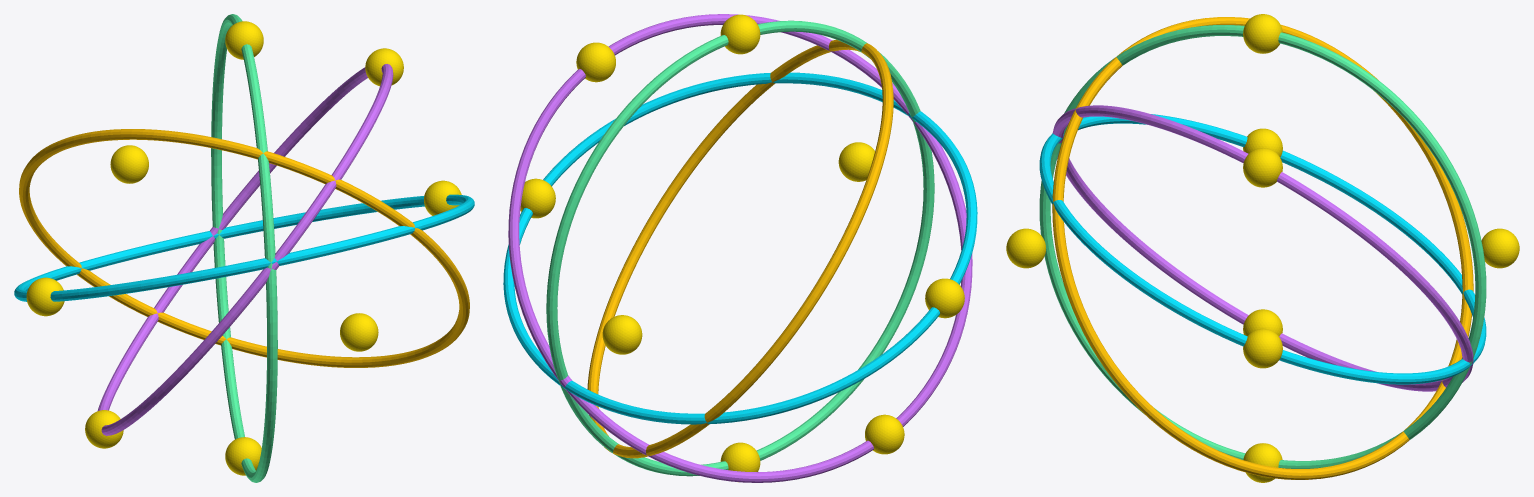
The model's file is modelo.glb.
3 views of the same model, side by side, from view 1: azimuth 30°, elevation 25°; view 2: azimuth 150°, elevation 25°; view 3: azimuth 270°, elevation 25° (orthographic). The views are drawn at different scales.
Parts seen in each view (by area): view 1: orbita_4, orbita_3, orbita_2, orbita_1, eletron_5, eletron_6, eletron_2, eletron_3, eletron_8, eletron_7, eletron_4, eletron_1; view 2: orbita_3, orbita_1, orbita_2, orbita_4, eletron_6, eletron_7, eletron_8, eletron_3, eletron_2, eletron_5, eletron_1, eletron_4; view 3: orbita_4, orbita_2, orbita_1, orbita_3, eletron_5, eletron_1, eletron_7, eletron_3, eletron_6, eletron_4, eletron_8, eletron_2.
Boxes of the visible parts, <box> form: orbita_4: <box>19,129,469,367</box>; orbita_3: <box>97,64,393,435</box>; orbita_2: <box>211,14,277,482</box>; orbita_1: <box>14,194,474,301</box>; eletron_5: <box>340,313,378,351</box>; eletron_6: <box>110,145,148,183</box>; eletron_2: <box>26,277,64,316</box>; eletron_3: <box>225,21,263,59</box>; eletron_8: <box>85,410,123,448</box>; eletron_7: <box>365,48,403,86</box>; eletron_4: <box>225,437,261,475</box>; eletron_1: <box>424,180,461,215</box>; orbita_3: <box>508,14,972,482</box>; orbita_1: <box>503,72,977,424</box>; orbita_2: <box>546,20,934,476</box>; orbita_4: <box>587,39,893,458</box>; eletron_6: <box>602,315,642,354</box>; eletron_7: <box>576,42,615,82</box>; eletron_8: <box>865,414,904,454</box>; eletron_3: <box>720,14,760,54</box>; eletron_2: <box>925,278,964,318</box>; eletron_5: <box>838,142,874,181</box>; eletron_1: <box>520,178,555,218</box>; eletron_4: <box>720,442,760,482</box>; orbita_4: <box>1052,17,1473,479</box>; orbita_2: <box>1039,25,1486,468</box>; orbita_1: <box>1039,114,1486,384</box>; orbita_3: <box>1052,105,1473,391</box>; eletron_5: <box>1006,228,1045,268</box>; eletron_1: <box>1243,328,1282,368</box>; eletron_7: <box>1243,148,1282,187</box>; eletron_3: <box>1243,14,1282,53</box>; eletron_6: <box>1481,228,1519,268</box>; eletron_4: <box>1243,443,1282,482</box>; eletron_8: <box>1243,309,1282,336</box>; eletron_2: <box>1243,128,1282,157</box>.
Size of the model in its own units: 0.412 by 0.412 by 0.412.
